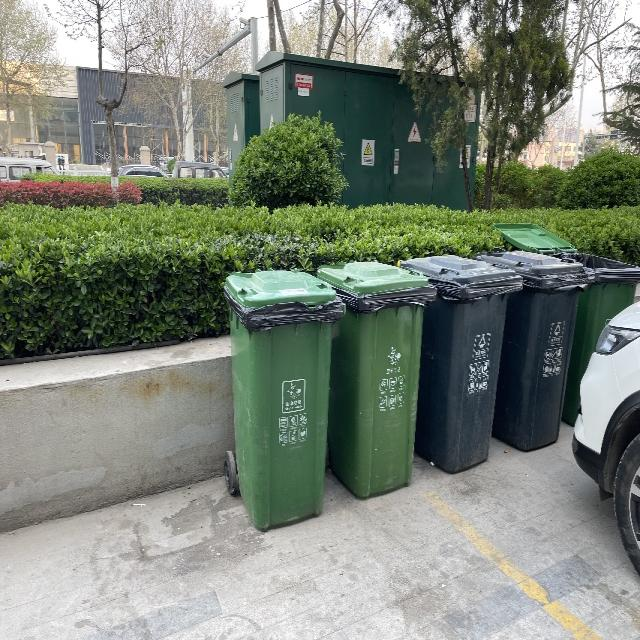garbage_bin: (221, 269, 345, 533), (317, 261, 436, 500), (401, 253, 522, 472), (477, 251, 594, 449), (560, 251, 640, 427)
